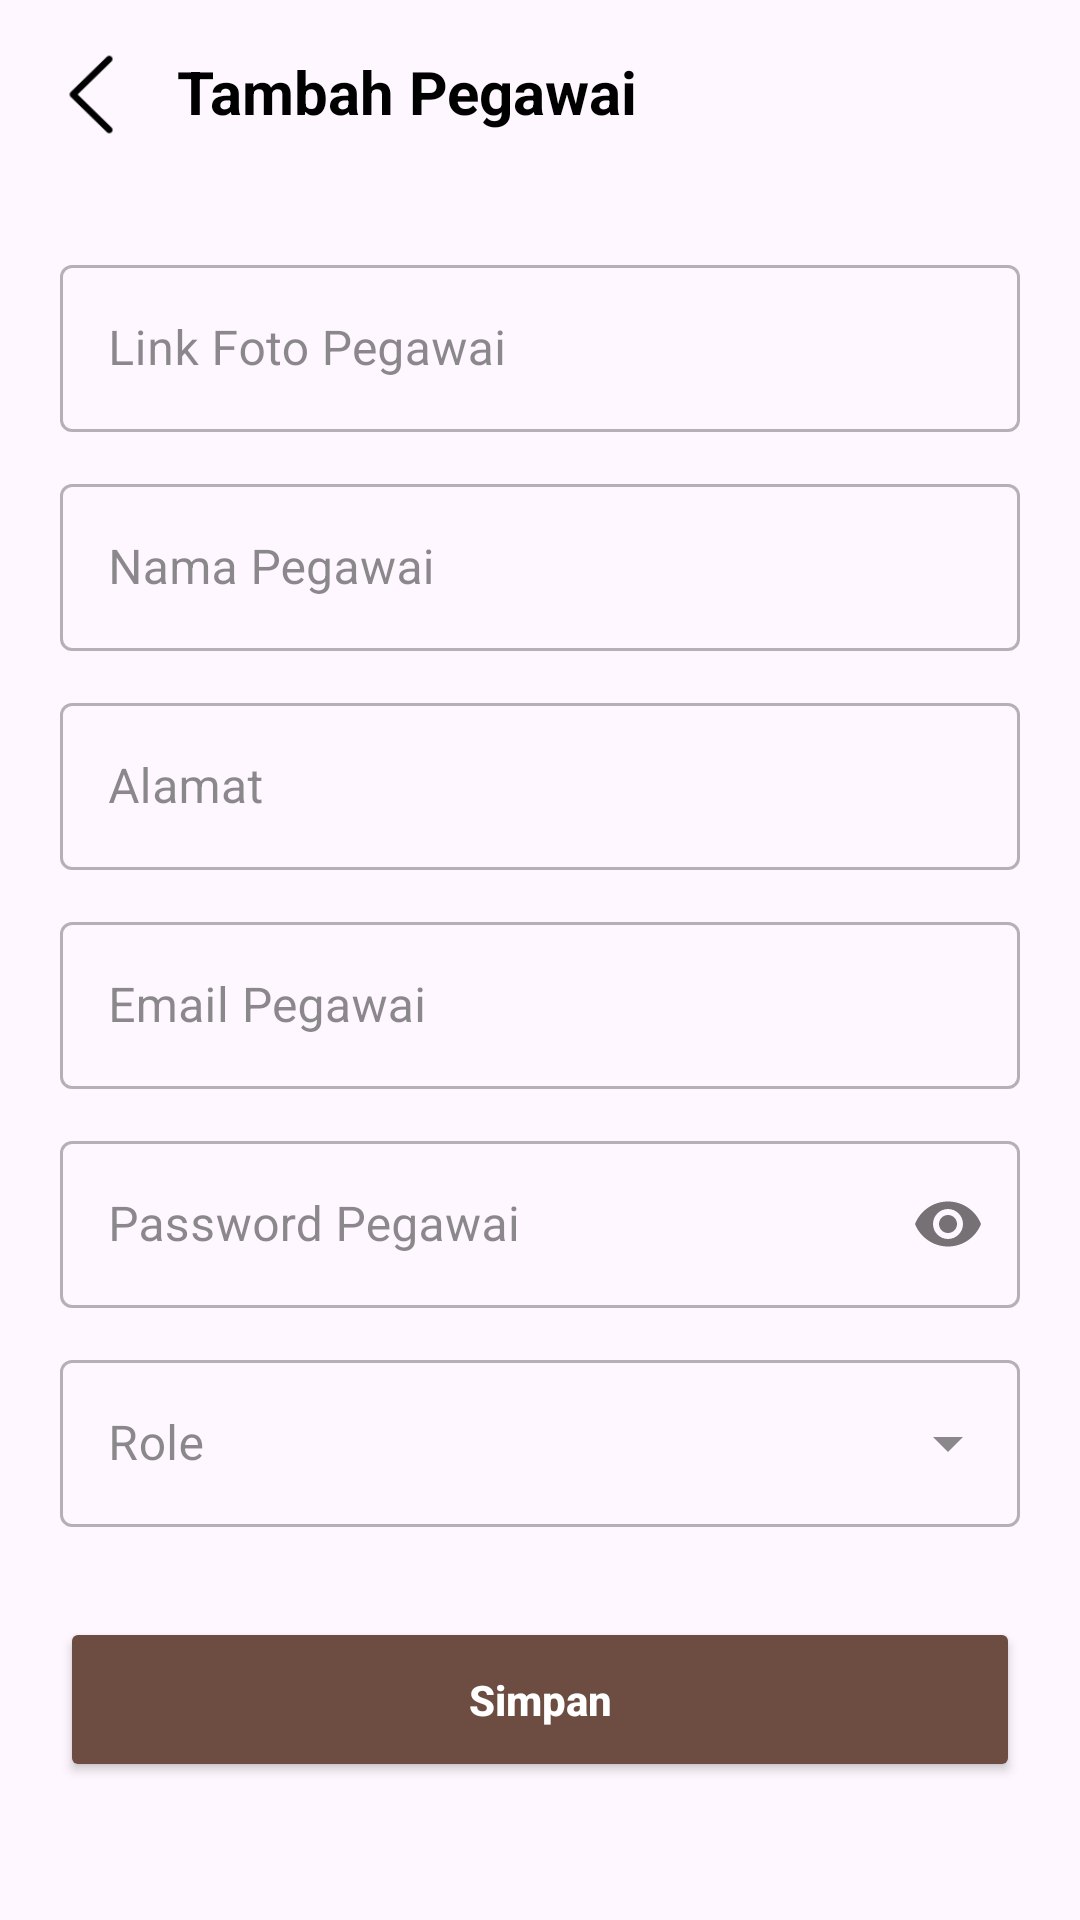

Point at icon controls on the screen. Image size 1080w x 1920h, points as [x,y].
Kembali: [91,94]
